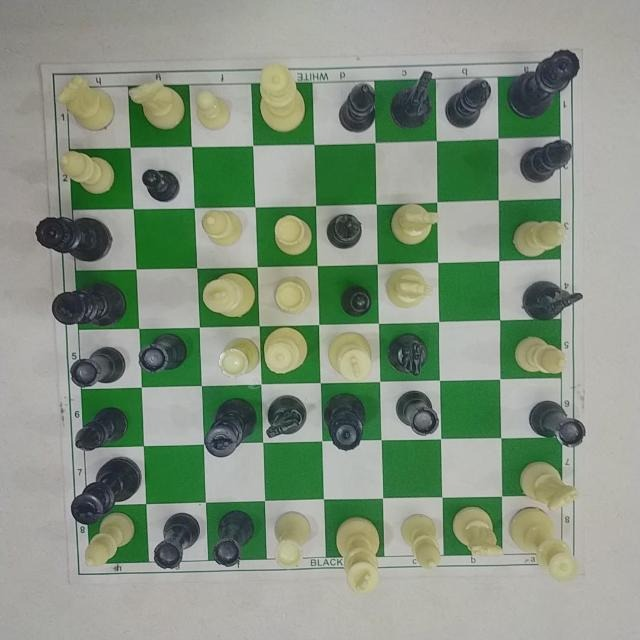black-bishop: (73, 404, 129, 453), (518, 138, 574, 186), (443, 76, 493, 129), (336, 82, 378, 134), (324, 212, 363, 251)
black-king: (68, 454, 144, 526), (49, 280, 128, 329), (203, 396, 259, 460)
black-knight: (389, 68, 435, 131), (520, 278, 584, 322), (264, 393, 308, 441), (385, 332, 429, 378)
black-pawn: (139, 167, 182, 204), (339, 283, 373, 319)
black-queen: (504, 46, 582, 121), (32, 214, 113, 263), (320, 391, 367, 453)
black-rook: (526, 398, 588, 450), (151, 511, 201, 571), (67, 344, 128, 389), (210, 509, 256, 568), (394, 388, 442, 439), (136, 331, 188, 375)
white-bishop: (81, 510, 138, 570), (56, 149, 117, 196), (397, 510, 443, 571), (510, 217, 569, 260), (512, 334, 568, 376), (199, 208, 243, 248)
white-king: (333, 514, 383, 597), (199, 271, 258, 319), (326, 329, 374, 384)
white-knight: (53, 73, 117, 133), (517, 458, 581, 513), (126, 78, 187, 131), (449, 505, 505, 561), (389, 200, 441, 247), (384, 267, 432, 309)
white-pawn: (195, 90, 231, 132)
white-queen: (506, 506, 581, 586), (257, 63, 307, 135), (262, 325, 310, 376)
white-rook: (271, 509, 312, 571), (216, 336, 261, 380), (270, 213, 313, 257), (272, 276, 313, 316)
